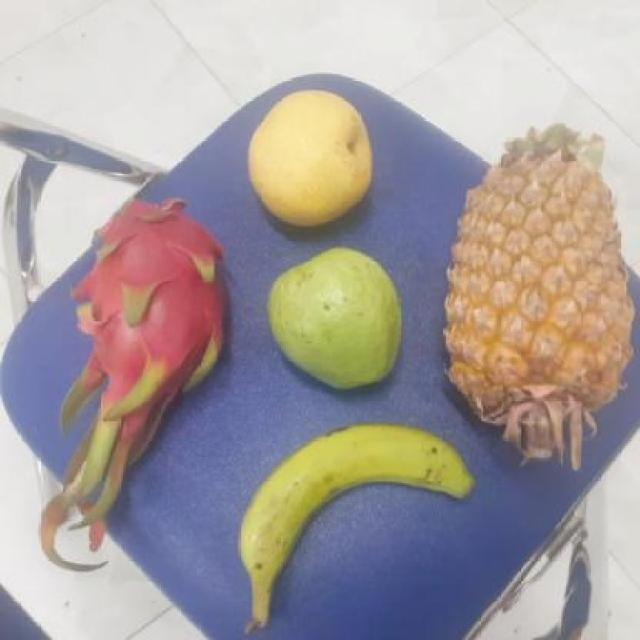banana: (236, 424, 461, 598)
dragon fruit: (70, 196, 232, 401)
guava: (260, 250, 403, 388)
pear: (238, 92, 374, 226)
pineapple: (439, 133, 633, 473)
